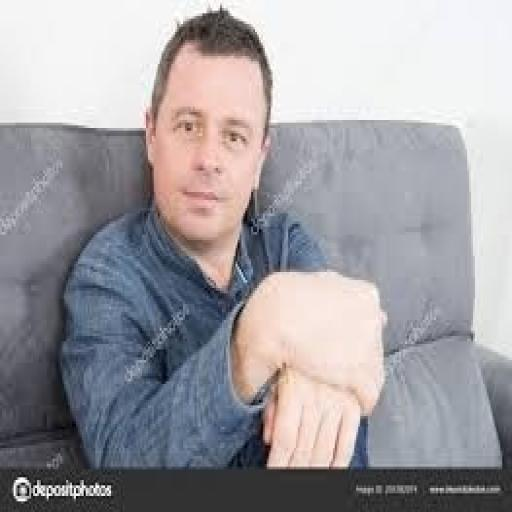sitting: (56, 3, 390, 469)
